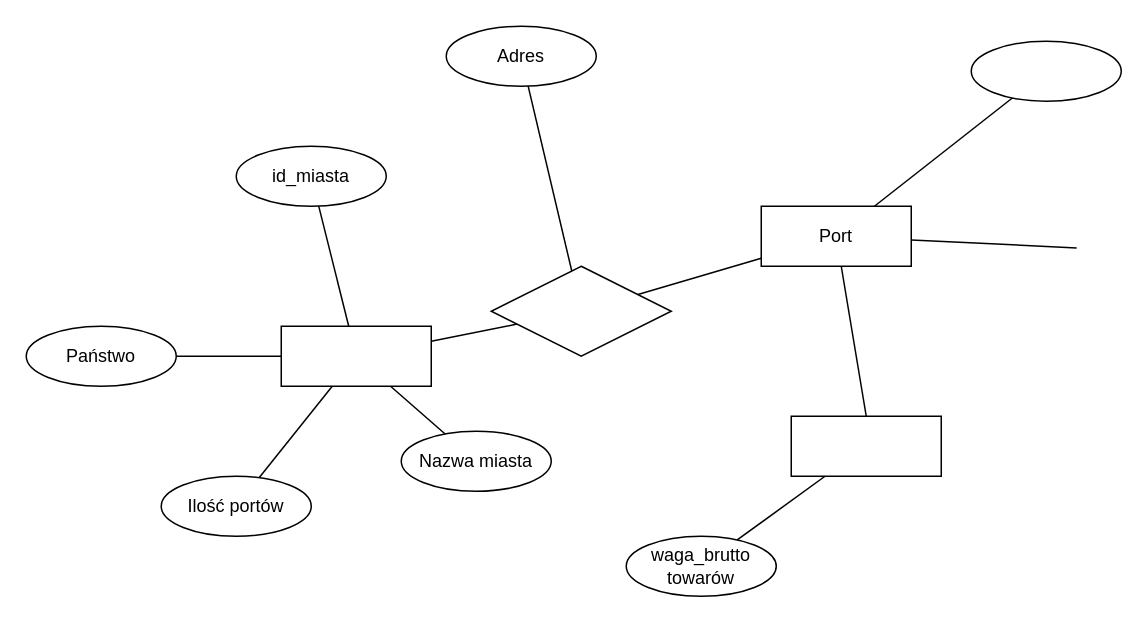
The diagram is 1148 pixels wide and 623 high, and some of its shapes have lost their labels. The centre of each missing label's shape, as x and y in pixels:
Miasto: the point at 355,355
położenie: the point at 580,310
Przeładuek: the point at 865,445
Typ portu: the point at 1045,70
